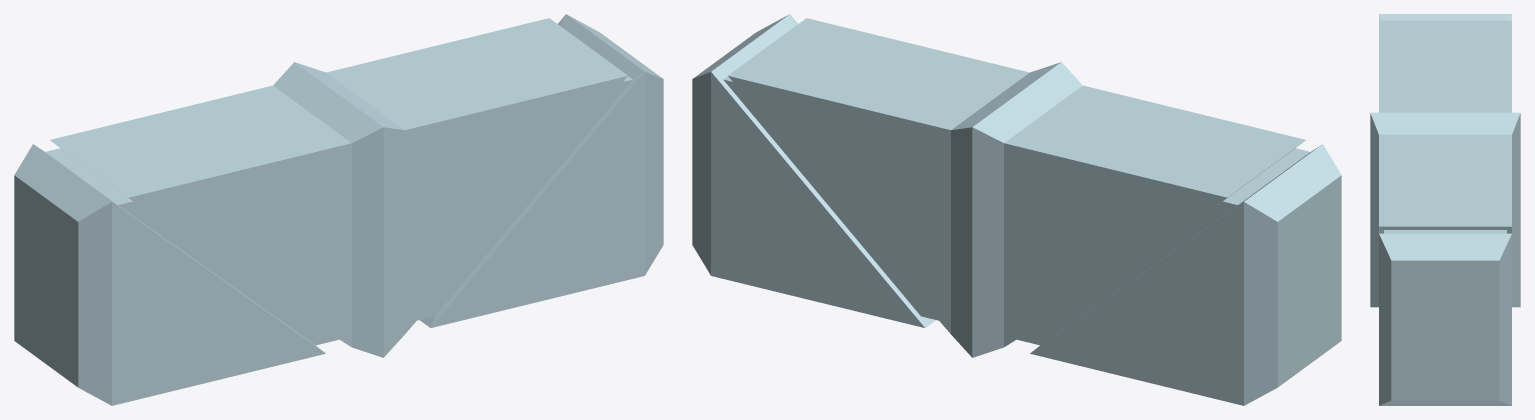
The model's file is Wall2.fbx.
3 views of the same model, side by side, from view 1: azimuth 30°, elevation 25°; view 2: azimuth 150°, elevation 25°; view 3: azimuth 270°, elevation 25° (orthographic). The views are drawn at different scales.
Visible parts, largest first — view 1: Wall2; view 2: Wall2; view 3: Wall2.
Boxes of the visible parts, x1,y1,x2,y2 form: Wall2: (14,14,663,405); Wall2: (692,14,1341,405); Wall2: (1370,14,1520,405).
Bounding box in the file's own units: 300 × 113 × 79.09.
